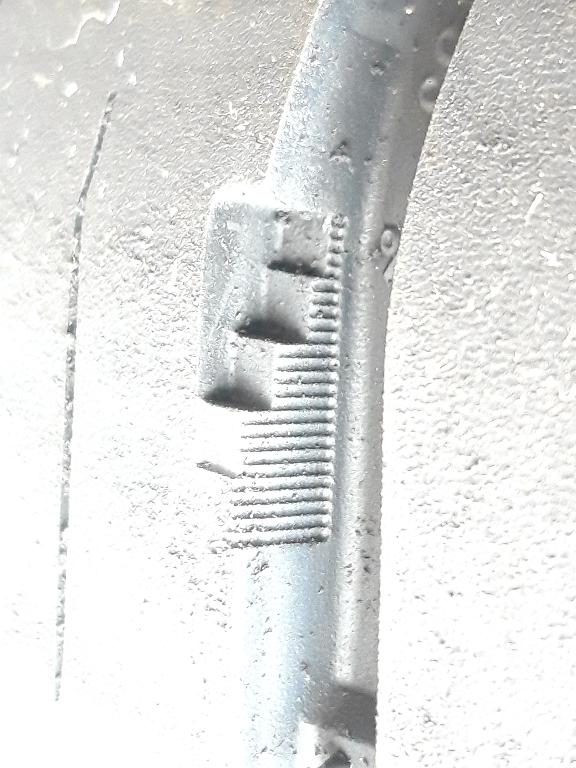temoin:75: (182, 175, 360, 496)
